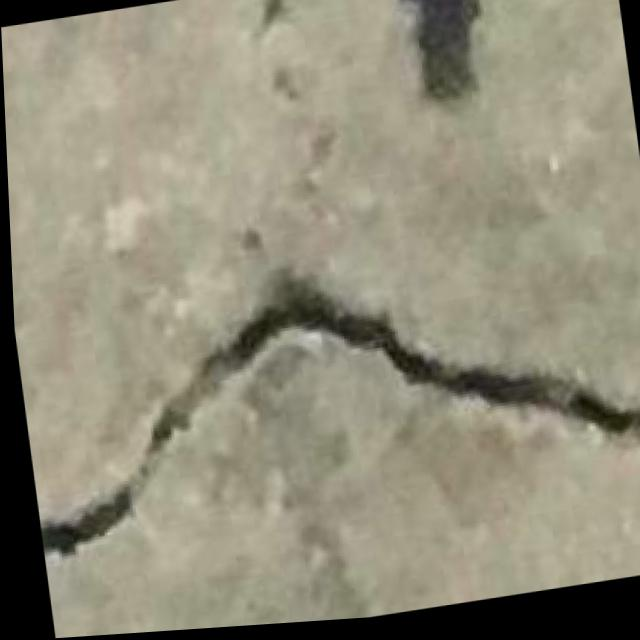Crack: (10, 251, 640, 565)
